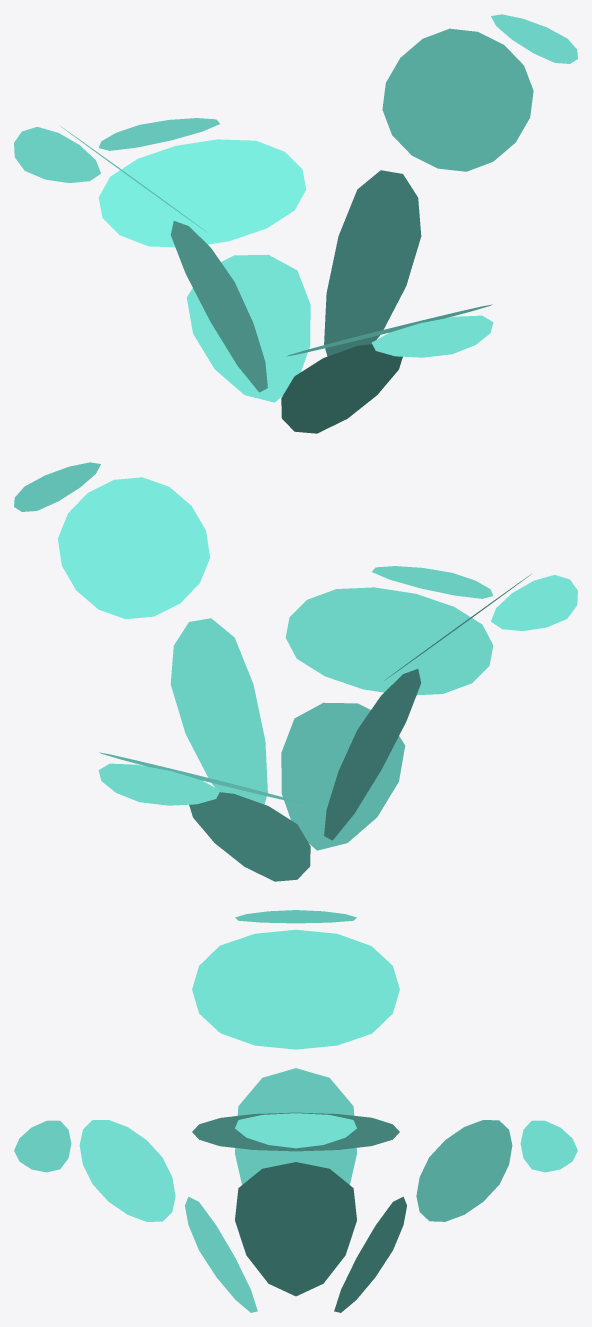
The model's file is plant_bush.glb.
The picture shows the model from 3 angles, top to bottom: view 1: azimuth 30°, elevation 25°; view 2: azimuth 150°, elevation 25°; view 3: azimuth 270°, elevation 25°; orthographic projection. The views are drawn at different scales.
Parts seen in each view (by area): view 1: plant_bush; view 2: plant_bush; view 3: plant_bush.
Part boxes in pixels (x1,y1,x2,y2): plant_bush: (14, 14, 577, 433); plant_bush: (14, 462, 577, 881); plant_bush: (14, 910, 577, 1312).
Bounding box in the file's own units: 0.358 × 0.2053 × 0.358.
